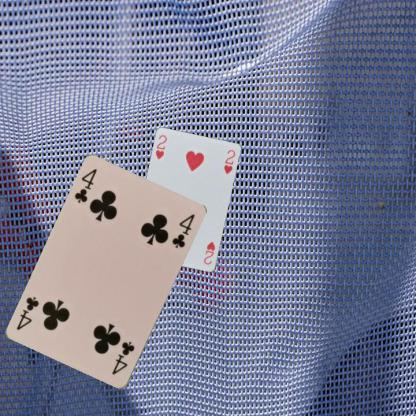2h: (153, 132, 168, 161), (201, 239, 217, 266)
4c: (72, 166, 98, 206), (110, 338, 136, 376)
